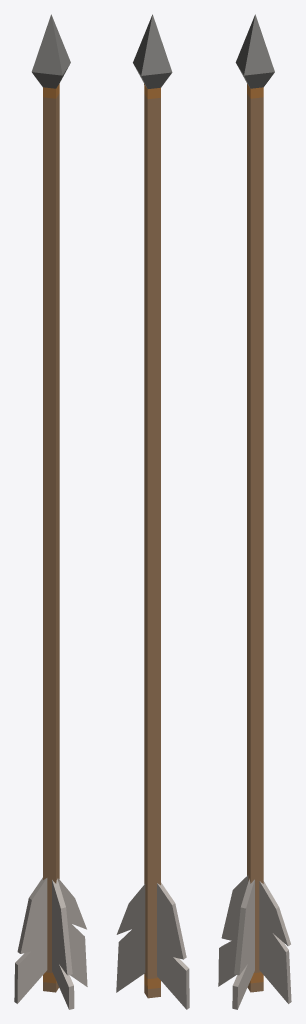
File: SM_pwe_medieval_arrow_01.fbx
3 renders of one model, left to right at view 1: azimuth 30°, elevation 25°; view 2: azimuth 150°, elevation 25°; view 3: azimuth 330°, elevation 25°, orthographic.
Parts seen in each view (by area): view 1: SM_pwe_medieval_arrow_01; view 2: SM_pwe_medieval_arrow_01; view 3: SM_pwe_medieval_arrow_01.
Part boxes in pixels (x1=…): SM_pwe_medieval_arrow_01: x1=14, y1=14, x2=87, y2=1009; SM_pwe_medieval_arrow_01: x1=116, y1=14, x2=189, y2=1009; SM_pwe_medieval_arrow_01: x1=218, y1=14, x2=291, y2=1009.
Bounding box in the file's own units: 4.3 × 57.46 × 3.38.
